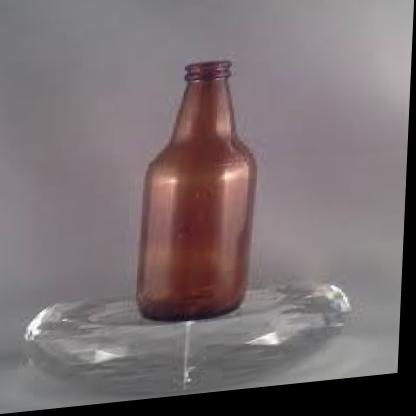trash: (137, 61, 255, 319)
